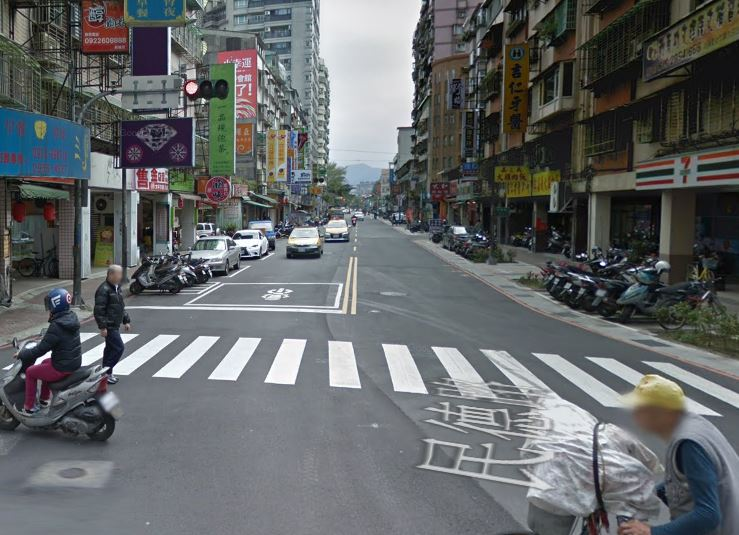Traffic_light_red: (182, 78, 230, 100)
